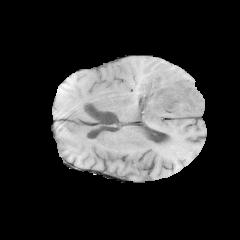glioma: (137, 68, 204, 129)
